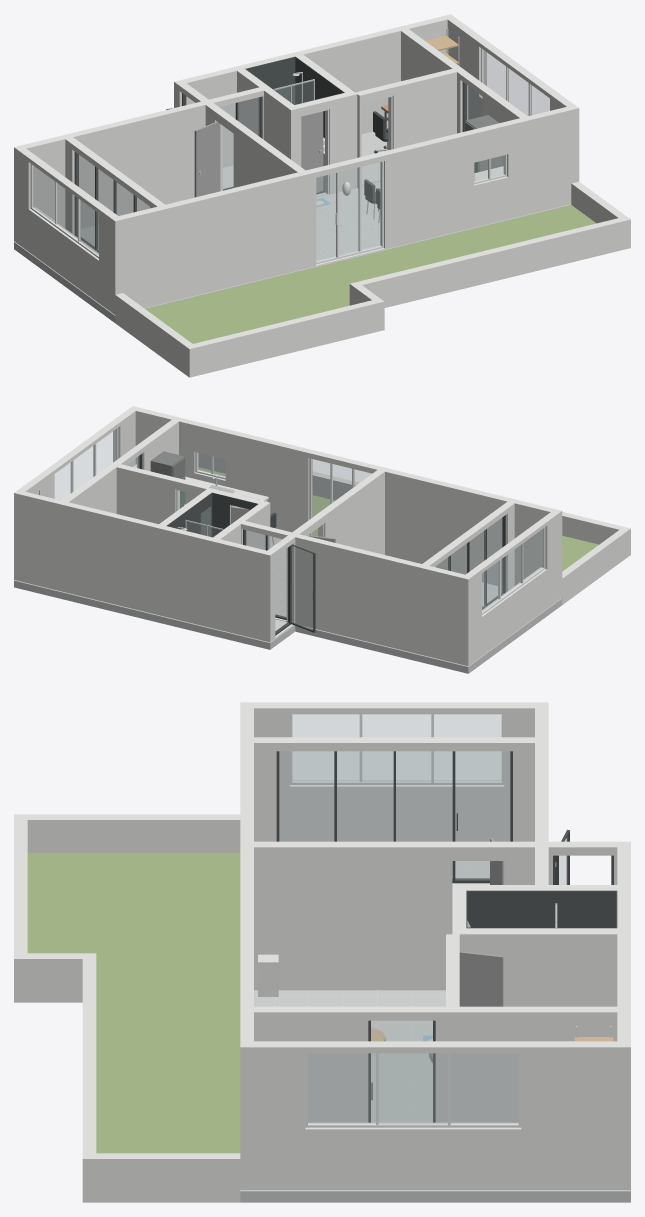
The model's file is floorplan_3d.glb.
3 views of the same model, one above another, from view 1: azimuth 30°, elevation 25°; view 2: azimuth 150°, elevation 25°; view 3: azimuth 270°, elevation 25° (orthographic). The views are drawn at different scales.
Visible parts, largest first — view 1: 마당 전면 외벽 (×6), 잔디 마당, 큰 방 북측 외벽, 마당 남측 긴 담장, 좌측 발코니 외부창 (×4), 북측 외벽, 마당 남측 끝, 작업실 출입문, 우측 다용도실 외부창 (×3), 거실·주방 바닥 (×2), 욕실 서측 벽, 마당 서측 (+31 smaller); view 2: 북측 외벽, 마당 전면 외벽 (×5), 큰 방 북측 외벽, 좌측 발코니 외부창 (×4), 큰 방 출입문, 작업실 출입문, 우측 다용도실 외부창 (×3), 마당 서측, 동측 바닥 구조판, 서측 바닥 구조판, 큰 방 발코니 전고문 (×2), 현관 외부 출입문 단일 유리 문짝 (+25 smaller); view 3: 잔디 마당 (×2), 우측 다용도실 외부창 (×4), 큰 방 출입문 (×3), 좌측 발코니 외부창 (×4), 다용도실 유리문 (×3), 욕실 동측 벽, 작업실 동측 벽, 마당 서측, 거실·주방 바닥 (×3), 큰 방 발코니 전고문 (×3), 마당 동측, 욕실 서측 검정 타일 (+25 smaller).
Part boxes in pixels (<box>): 마당 전면 외벽 (×6): <box>111,106,579,313</box>; 잔디 마당: <box>145,205,596,343</box>; 큰 방 북측 외벽: <box>14,100,212,243</box>; 마당 남측 긴 담장: <box>349,216,630,307</box>; 좌측 발코니 외부창 (×4): <box>14,147,122,314</box>; 북측 외벽: <box>174,14,454,167</box>; 마당 남측 끝: <box>193,300,376,375</box>; 작업실 출입문: <box>389,68,464,148</box>; 우측 다용도실 외부창 (×3): <box>444,15,579,183</box>; 거실·주방 바닥 (×2): <box>316,188,380,260</box>; 욕실 서측 벽: <box>237,69,298,165</box>; 마당 서측: <box>115,293,197,377</box>; 북측 외벽: <box>14,490,273,641</box>; 마당 전면 외벽 (×5): <box>129,406,562,600</box>; 큰 방 북측 외벽: <box>288,532,471,665</box>; 좌측 발코니 외부창 (×4): <box>461,509,562,666</box>; 큰 방 출입문: <box>318,470,384,554</box>; 작업실 출입문: <box>113,462,179,524</box>; 우측 다용도실 외부창 (×3): <box>14,406,139,579</box>; 마당 서측: <box>562,527,630,604</box>; 동측 바닥 구조판: <box>14,580,295,649</box>; 서측 바닥 구조판: <box>295,598,562,673</box>; 큰 방 발코니 전고문 (×2): <box>429,501,514,592</box>; 현관 외부 출입문 단일 유리 문짝: <box>291,545,312,629</box>; 잔디 마당 (×2): <box>27,852,240,1153</box>; 우측 다용도실 외부창 (×4): <box>240,1041,630,1189</box>; 큰 방 출입문 (×3): <box>254,841,534,990</box>; 좌측 발코니 외부창 (×4): <box>240,702,548,841</box>; 다용도실 유리문 (×3): <box>254,1006,445,1122</box>; 욕실 동측 벽: <box>452,928,617,1006</box>; 작업실 동측 벽: <box>446,1006,617,1122</box>; 마당 서측: <box>14,814,240,852</box>; 거실·주방 바닥 (×3): <box>254,990,445,1122</box>; 큰 방 발코니 전고문 (×3): <box>254,737,534,841</box>; 마당 동측: <box>82,1153,240,1202</box>; 욕실 서측 검정 타일: <box>466,890,616,927</box>.
Size of the model in its own units: 11.9 by 2.5 by 9.
